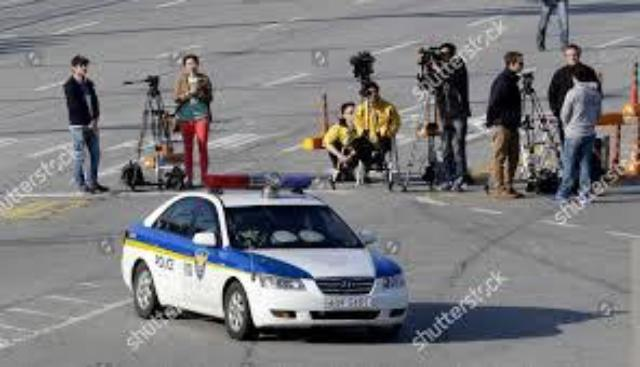police_car: (121, 173, 413, 329)
